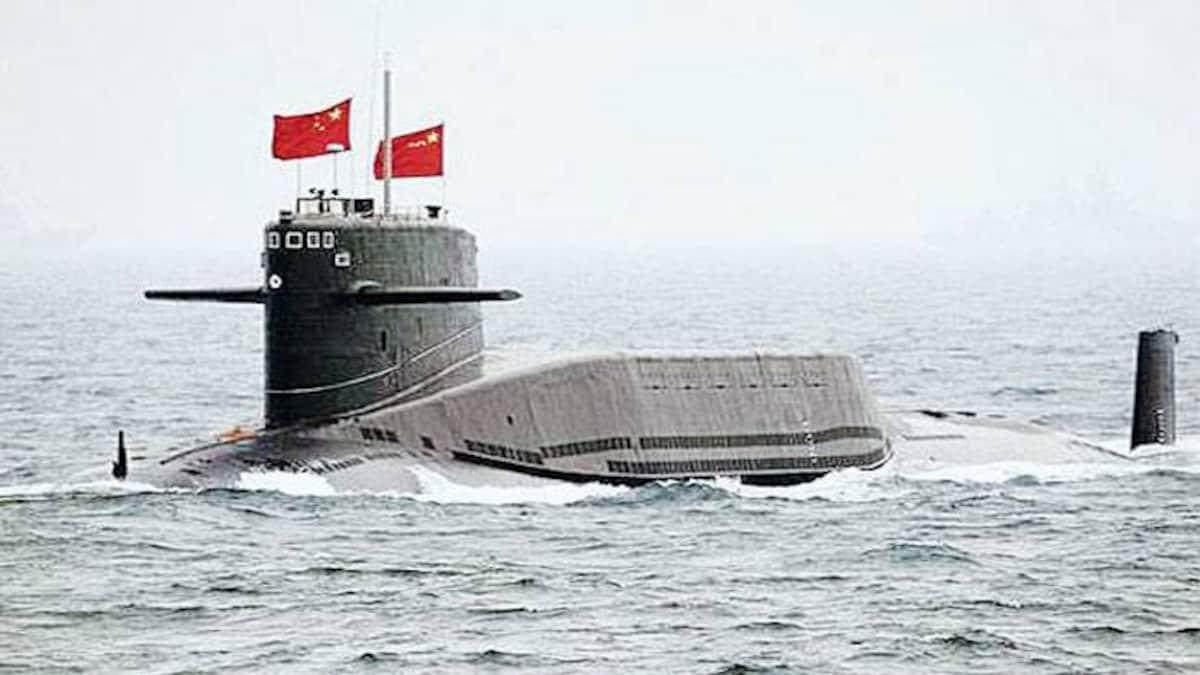Submarine: (0, 178, 1200, 580)
